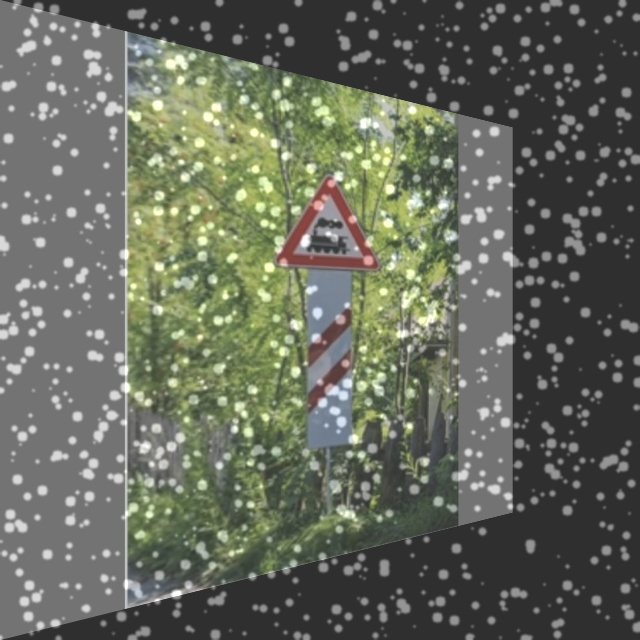Unguarded_Level_Crossing: (270, 158, 382, 274)
